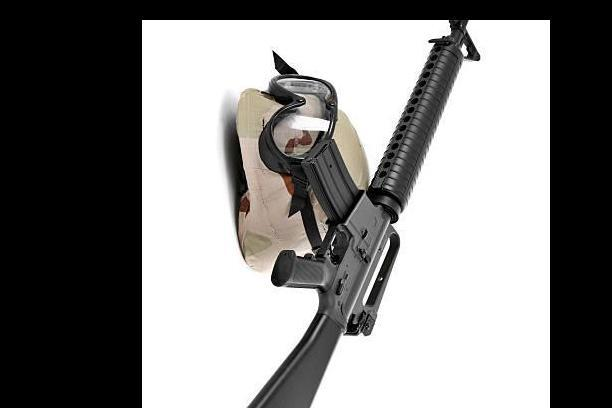larga: (248, 20, 481, 408)
